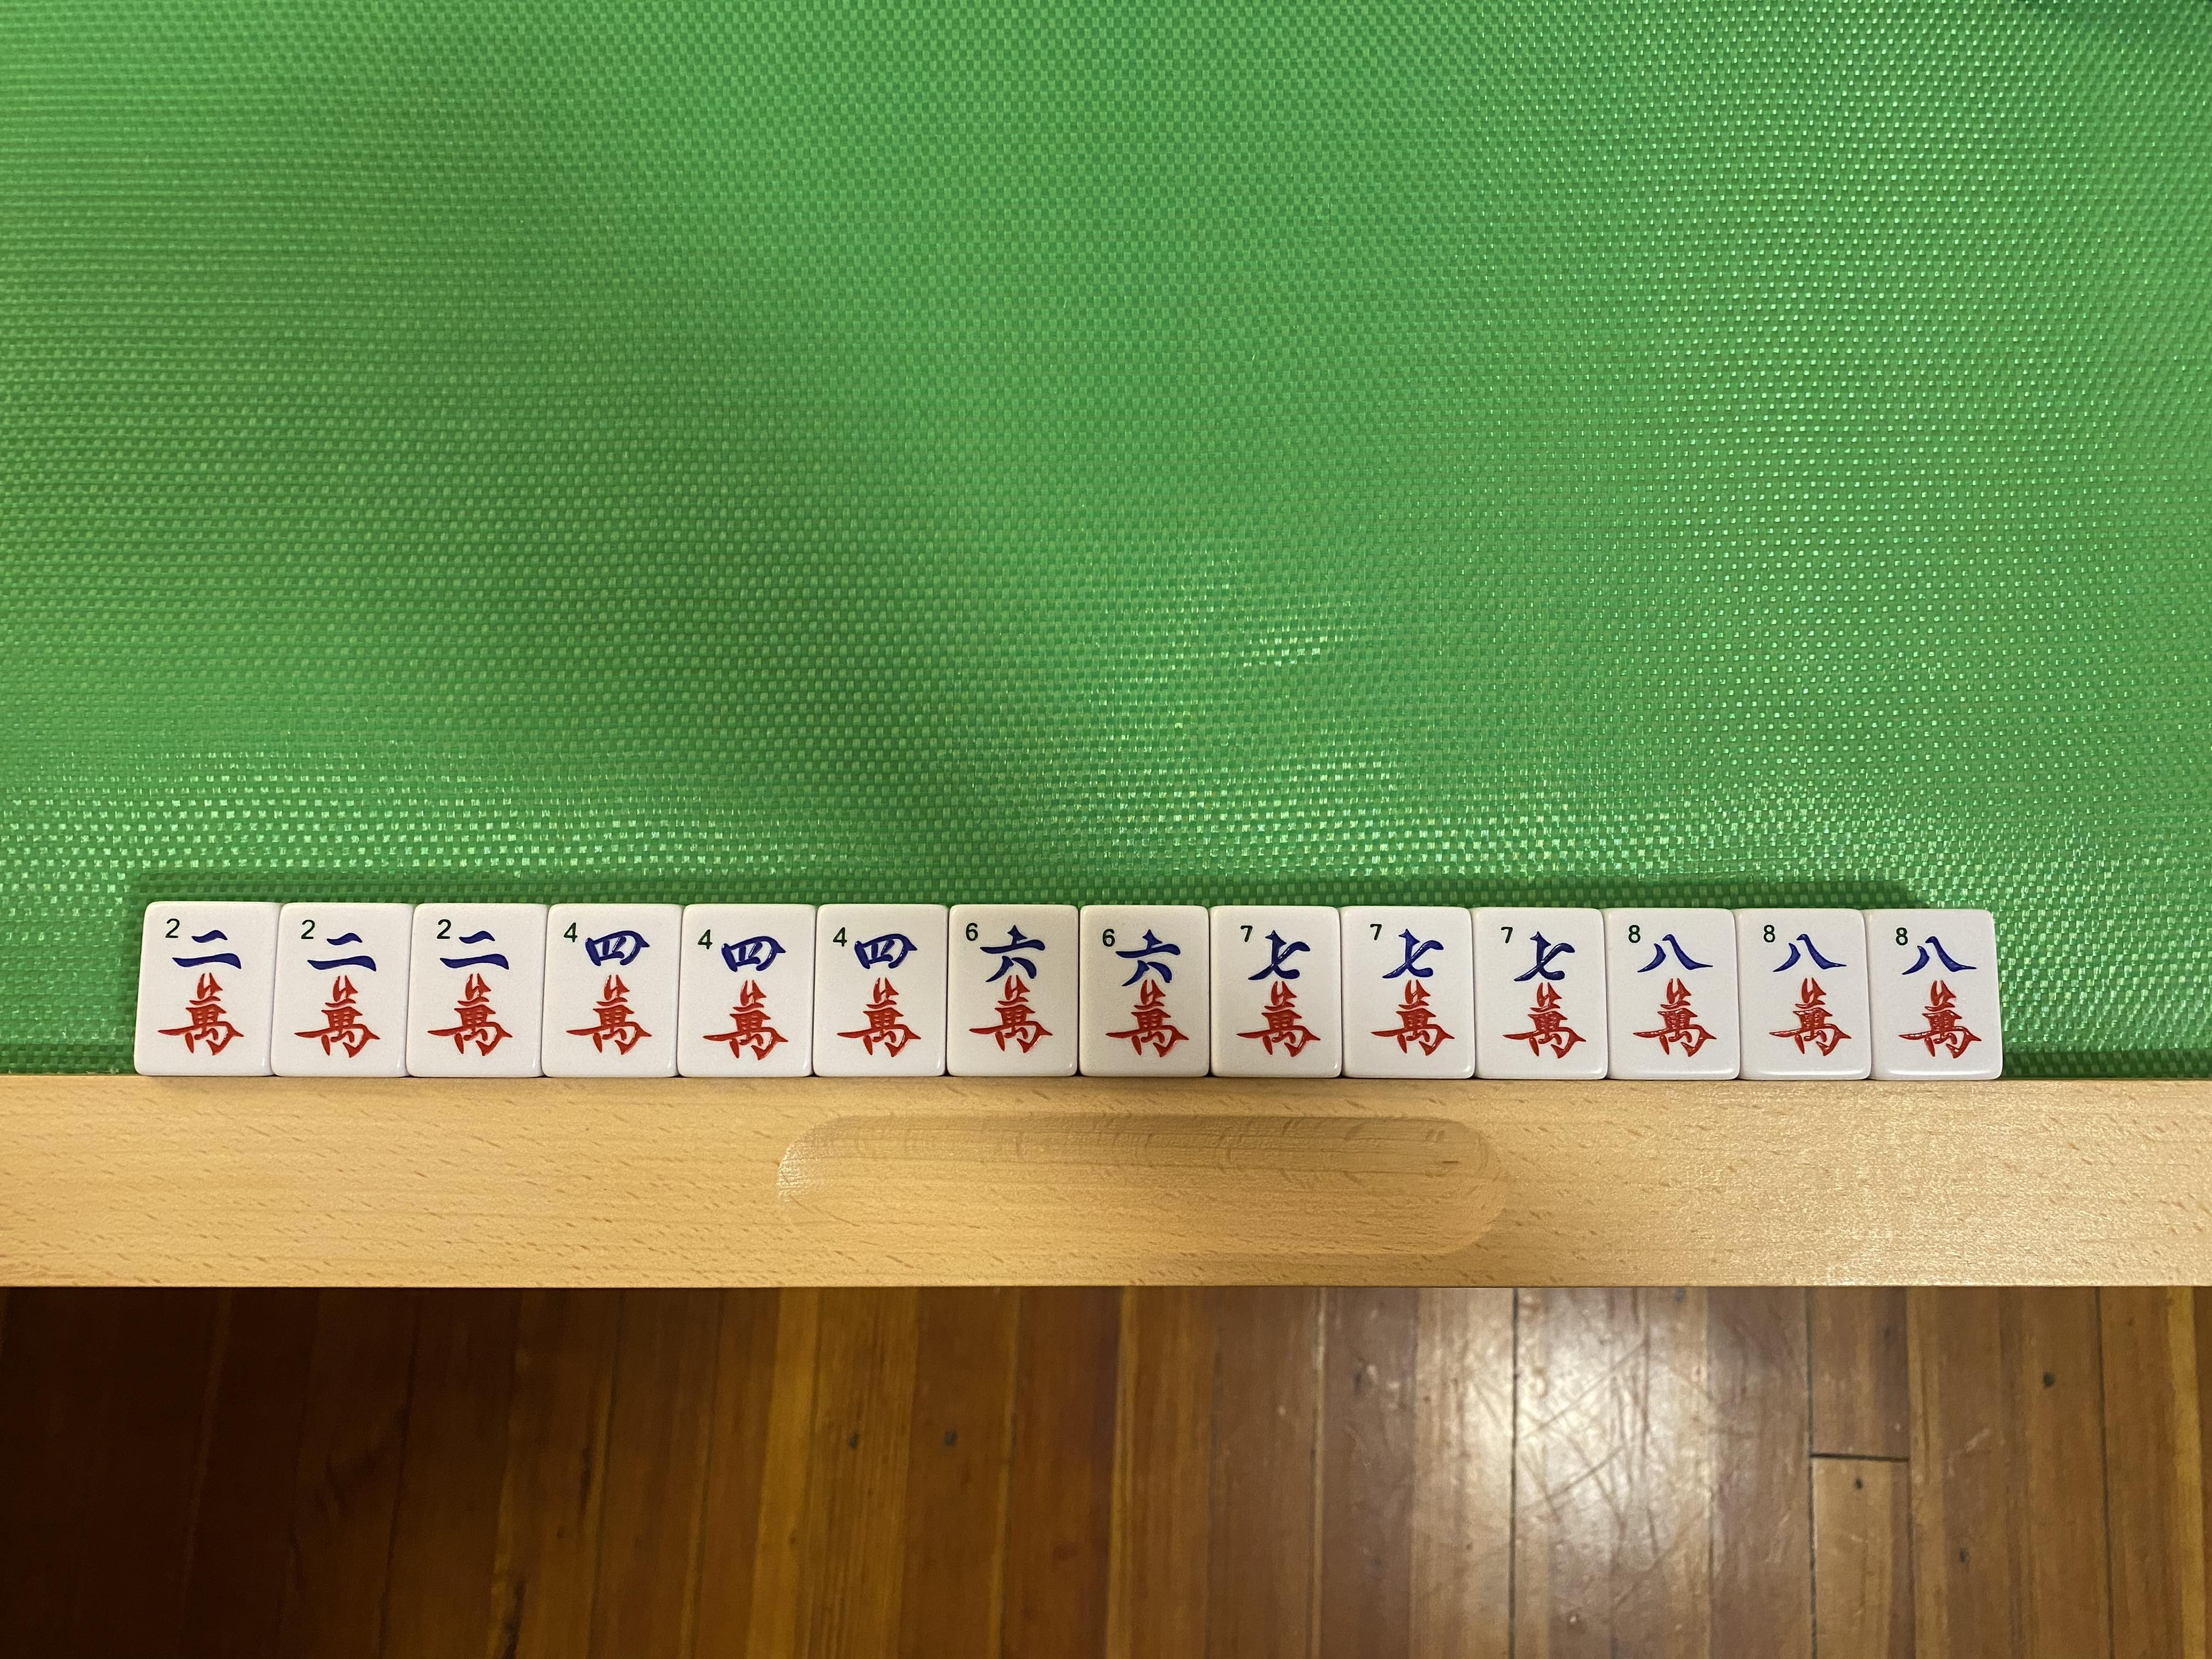character-eight: (1611, 910, 1733, 1075), (1743, 911, 1865, 1075), (1872, 913, 1993, 1073)
character-four: (545, 904, 683, 1077), (815, 906, 946, 1075), (683, 906, 813, 1075)
character-seven: (1211, 910, 1339, 1077), (1345, 911, 1472, 1079), (1477, 911, 1604, 1077)
character-six: (948, 908, 1078, 1077), (1082, 906, 1207, 1075)
character-two: (273, 904, 411, 1075), (409, 906, 545, 1073), (146, 901, 270, 1077)
